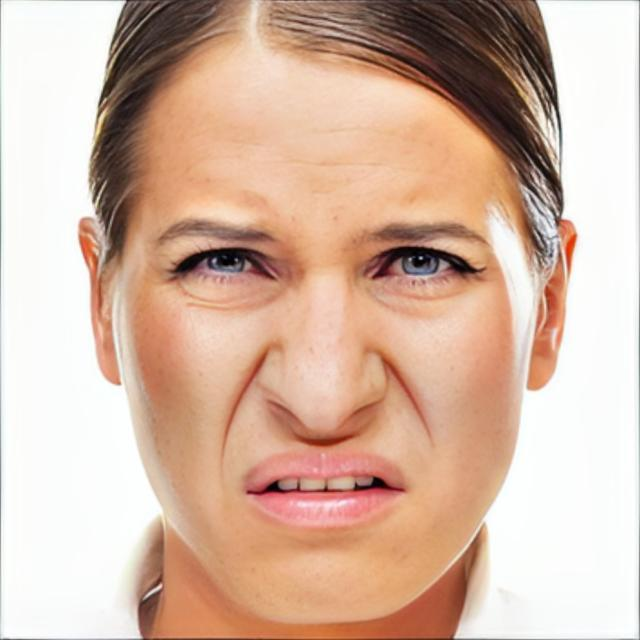disgust: (112, 41, 539, 626)
